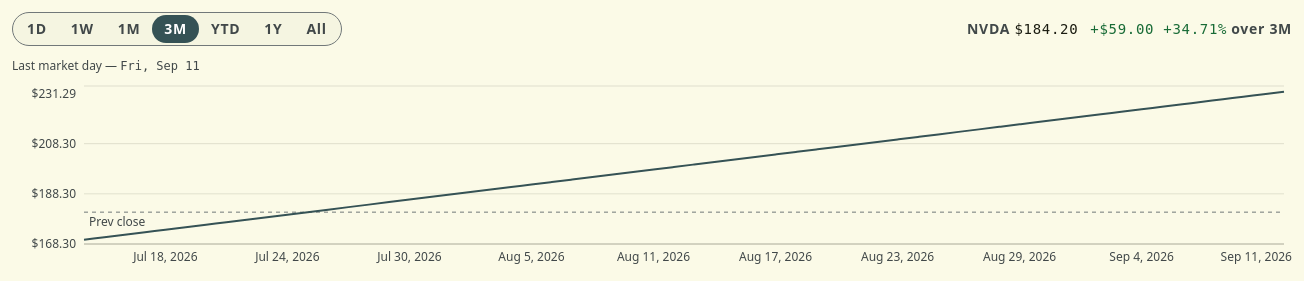
Test: UnderlyingChart › still measures the window on screen across concatenated sessions
Click the button "1W". click: coordinates (82, 29)
box: [59,15,106,43]
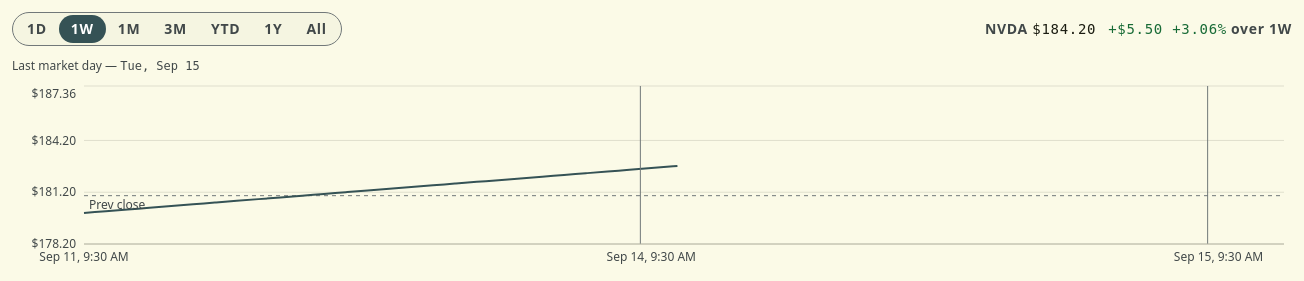
Check: the text "over 1W" is shown, box [1231,19,1292,38]
Check: the text "+$5.50 +3.06%over 1W" is shown, box [1108,19,1292,39]
